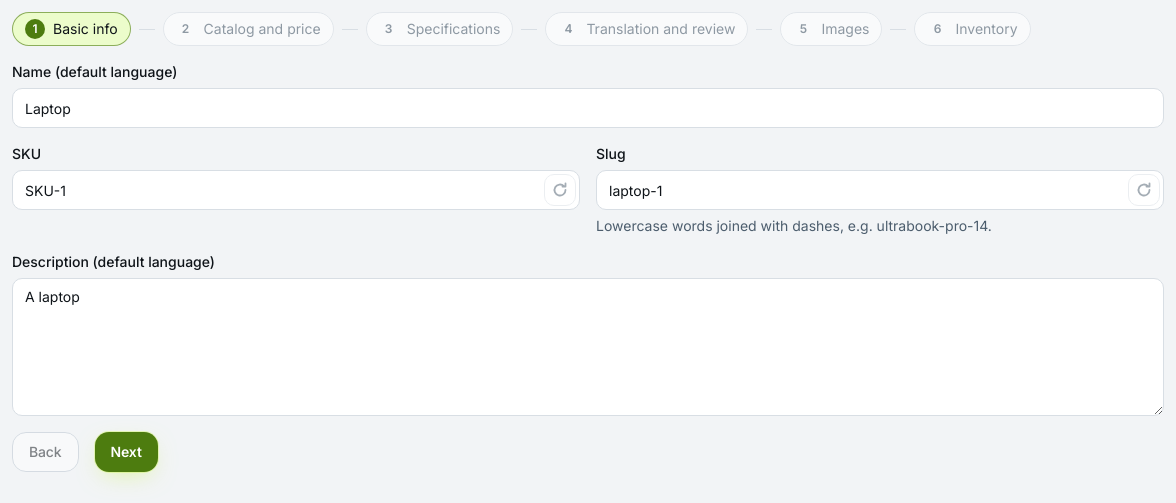
Test: ProductForm wizard › renders extra steps after translation with save on step 4 and last
The width and height of the screenshot is (1176, 503).
Expected: the button with aria-label "5. Images" is shown, [780, 12, 882, 46]
Expected: the button with aria-label "6. Inventory" is shown, [914, 12, 1031, 46]
// Advance to translation (step index 3): save + next are both visible.
Click the button "Next": click(126, 452) [94, 432, 158, 472]
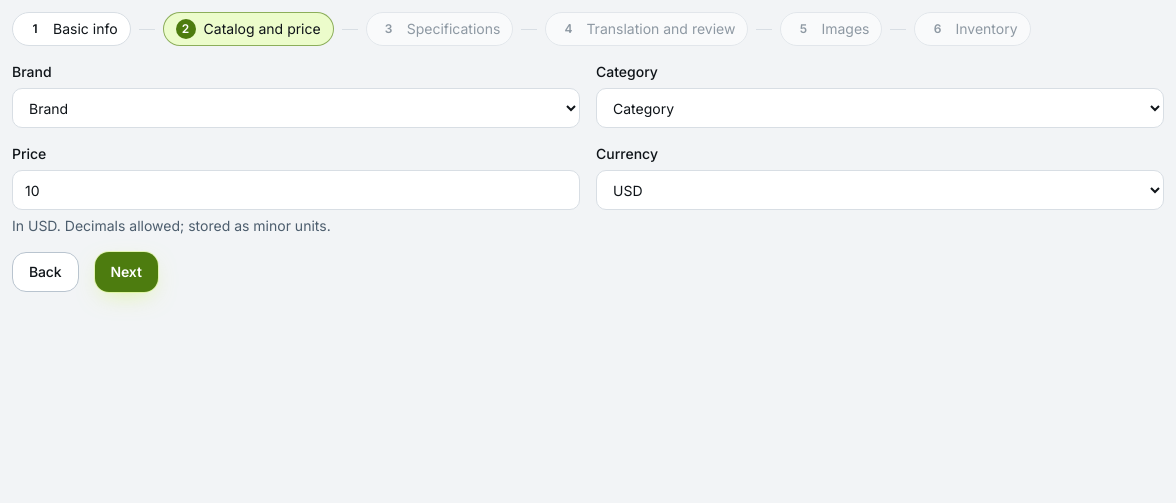
Click the button "Next": click(126, 272) [94, 252, 158, 292]
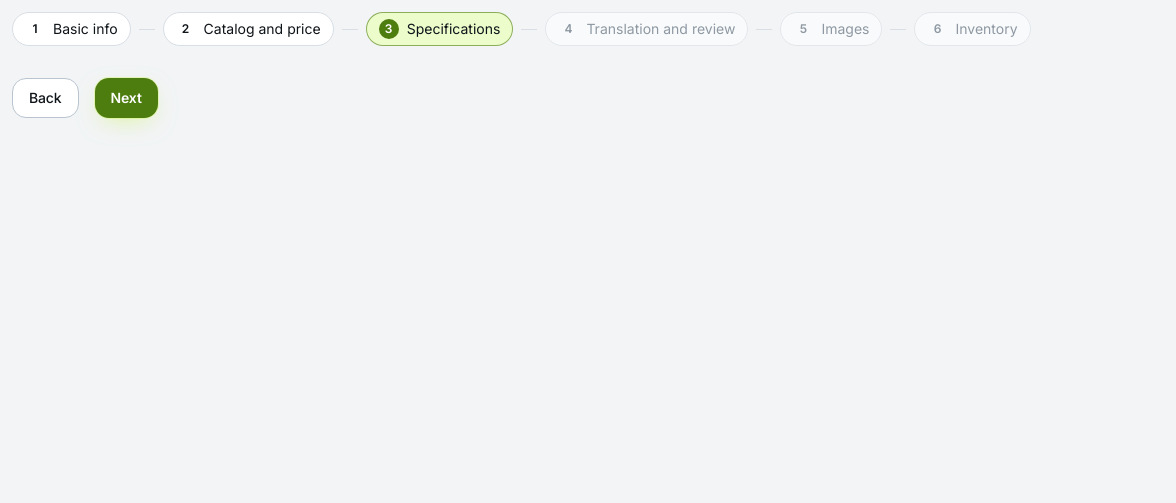
Click the button "Next": click(126, 98) [94, 78, 158, 118]
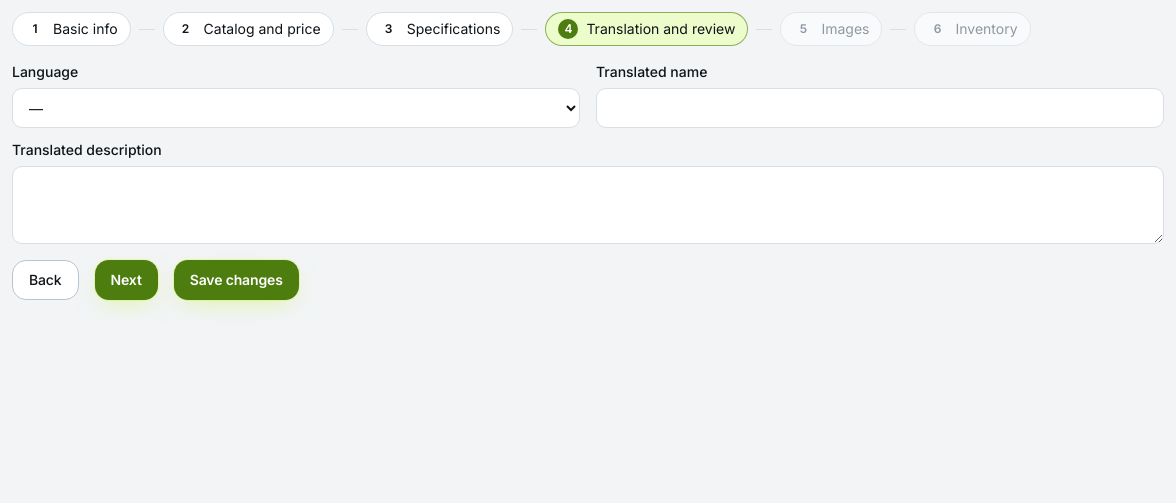
Now the button "Save changes" is shown, box [174, 260, 299, 300]
Click the button "Next": click(126, 280) [94, 260, 158, 300]
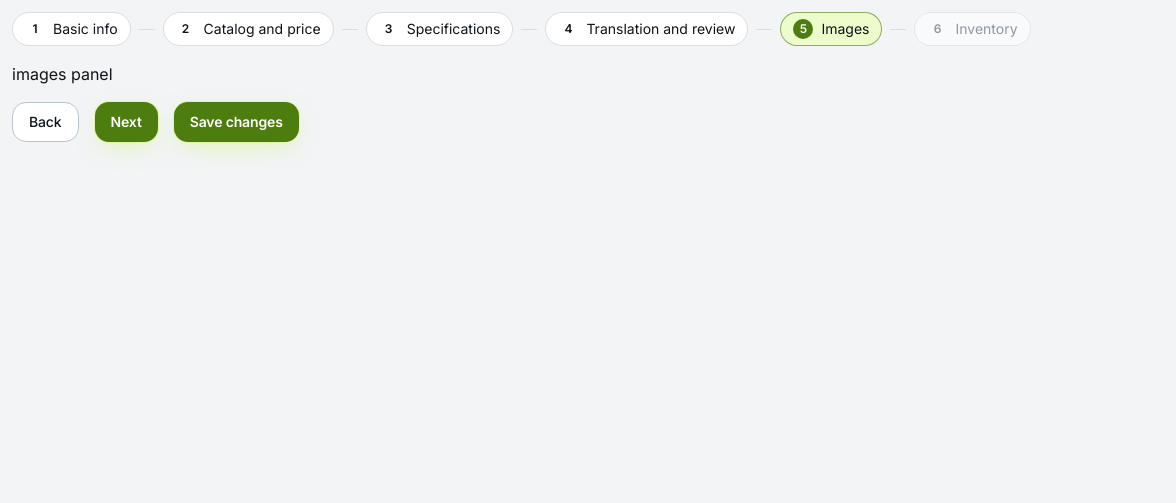
Now the text "images panel" is shown, box [12, 64, 113, 84]
Click the button "Next": click(126, 122) [94, 102, 158, 142]
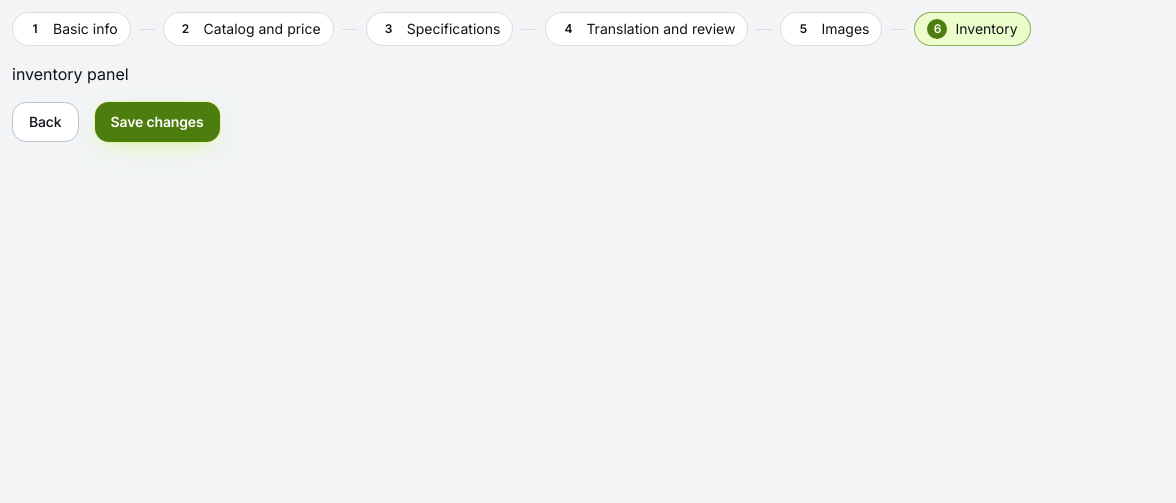
Now the button "Save changes" is shown, box [94, 102, 220, 142]
Now the text "inventory panel" is shown, box [12, 64, 129, 84]
Now the button "Next" is gone
